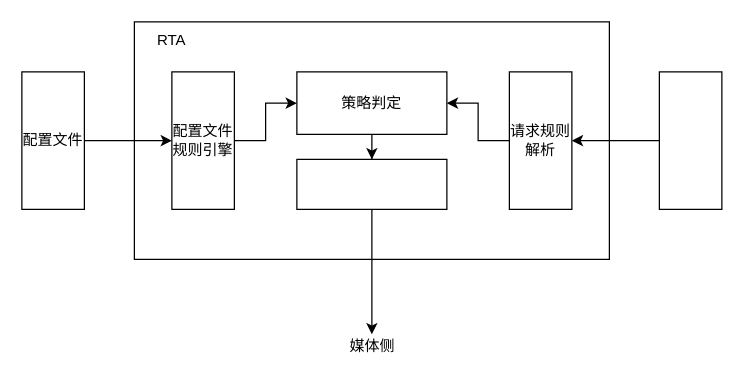
Some shapes in this 744 by 381 pixel diagram are drawn without their labels. The shapes that lost their labels are listed below. From the top down, each one's centre as x and y in pixels, then its label:
At [690,140]: "RTA请求".
At [371,183]: "组装回复".
